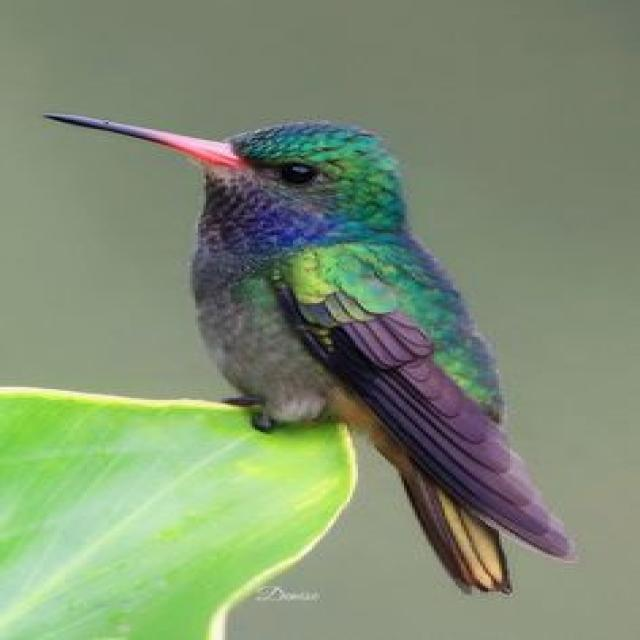Herbivorous: (46, 113, 578, 592)
